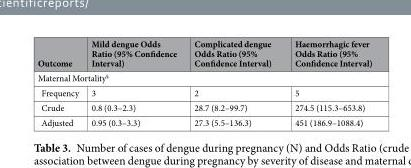table: (36, 37, 371, 128)
table column: (84, 37, 184, 128), (184, 37, 282, 128), (282, 37, 371, 128), (36, 37, 84, 128)
table column header: (36, 37, 371, 70)
table projected row header: (36, 70, 371, 84)
table row: (36, 37, 371, 70), (36, 84, 371, 99), (36, 99, 371, 114), (36, 70, 371, 84), (36, 114, 371, 128)
